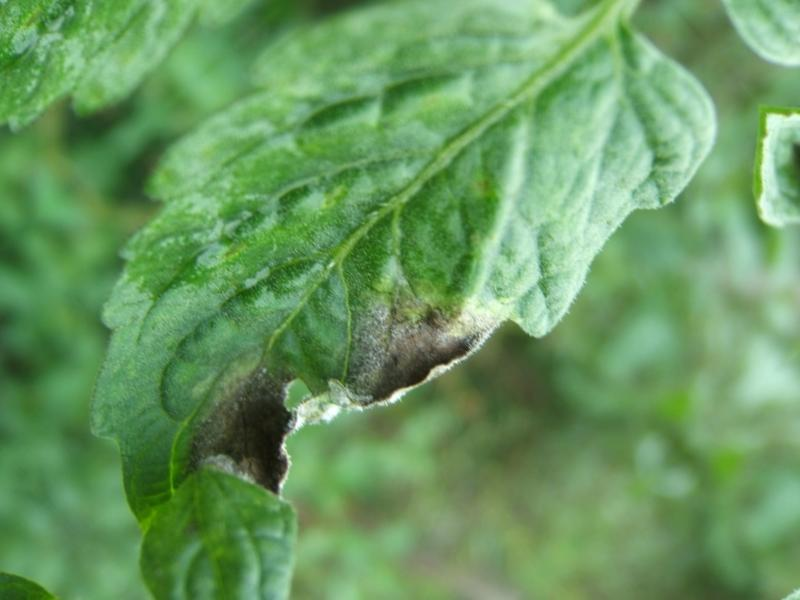Tomato leaf late blight: (0, 0, 773, 600)
